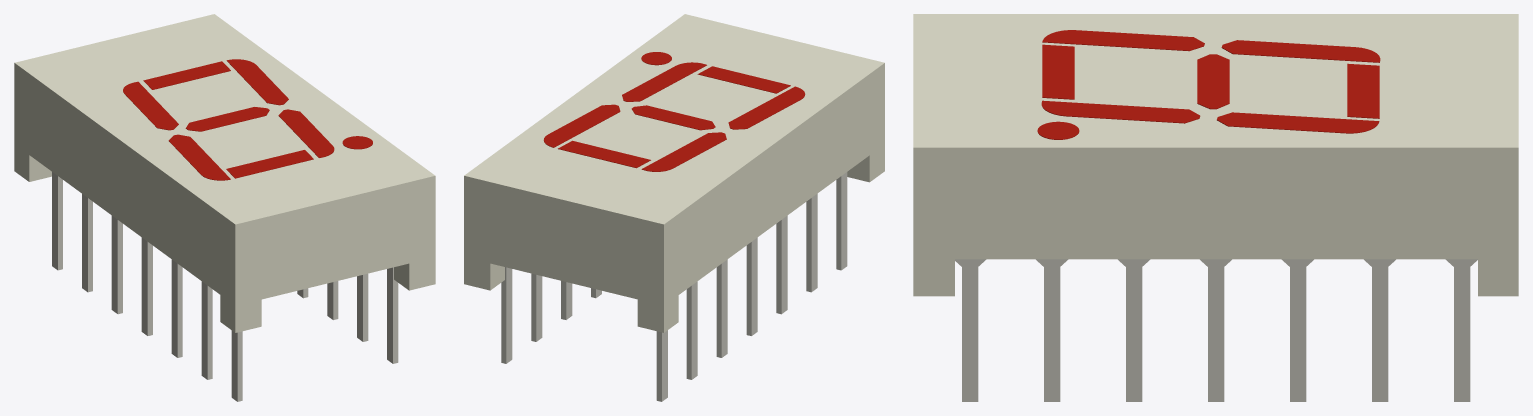
Rendered from kc-man71a.glb.
3 renders of one model, left to right at view 1: azimuth 30°, elevation 25°; view 2: azimuth 150°, elevation 25°; view 3: azimuth 270°, elevation 25°, orthographic. The views are drawn at different scales.
Parts seen in each view (by area): view 1: 0.75_0.75_0.6666666666666666_0, 0.6666666666666666_0.6666666666666666_0.5833333333333334_0.8, 0.4166666666666667_0_0_0; view 2: 0.75_0.75_0.6666666666666666_0, 0.6666666666666666_0.6666666666666666_0.5833333333333334_0.8, 0.4166666666666667_0_0_0; view 3: 0.75_0.75_0.6666666666666666_0, 0.6666666666666666_0.6666666666666666_0.5833333333333334_0.8, 0.4166666666666667_0_0_0.
Part boxes in pixels (<box>): 0.75_0.75_0.6666666666666666_0: <box>14,14,435,332</box>; 0.6666666666666666_0.6666666666666666_0.5833333333333334_0.8: <box>52,172,398,401</box>; 0.4166666666666667_0_0_0: <box>123,59,372,180</box>; 0.75_0.75_0.6666666666666666_0: <box>464,14,884,332</box>; 0.6666666666666666_0.6666666666666666_0.5833333333333334_0.8: <box>501,172,847,401</box>; 0.4166666666666667_0_0_0: <box>543,52,805,171</box>; 0.75_0.75_0.6666666666666666_0: <box>913,14,1518,296</box>; 0.6666666666666666_0.6666666666666666_0.5833333333333334_0.8: <box>955,259,1477,401</box>; 0.4166666666666667_0_0_0: <box>1037,30,1380,139</box>.
Bounding box in the file's own units: 0.98 × 0.916 × 1.88.
